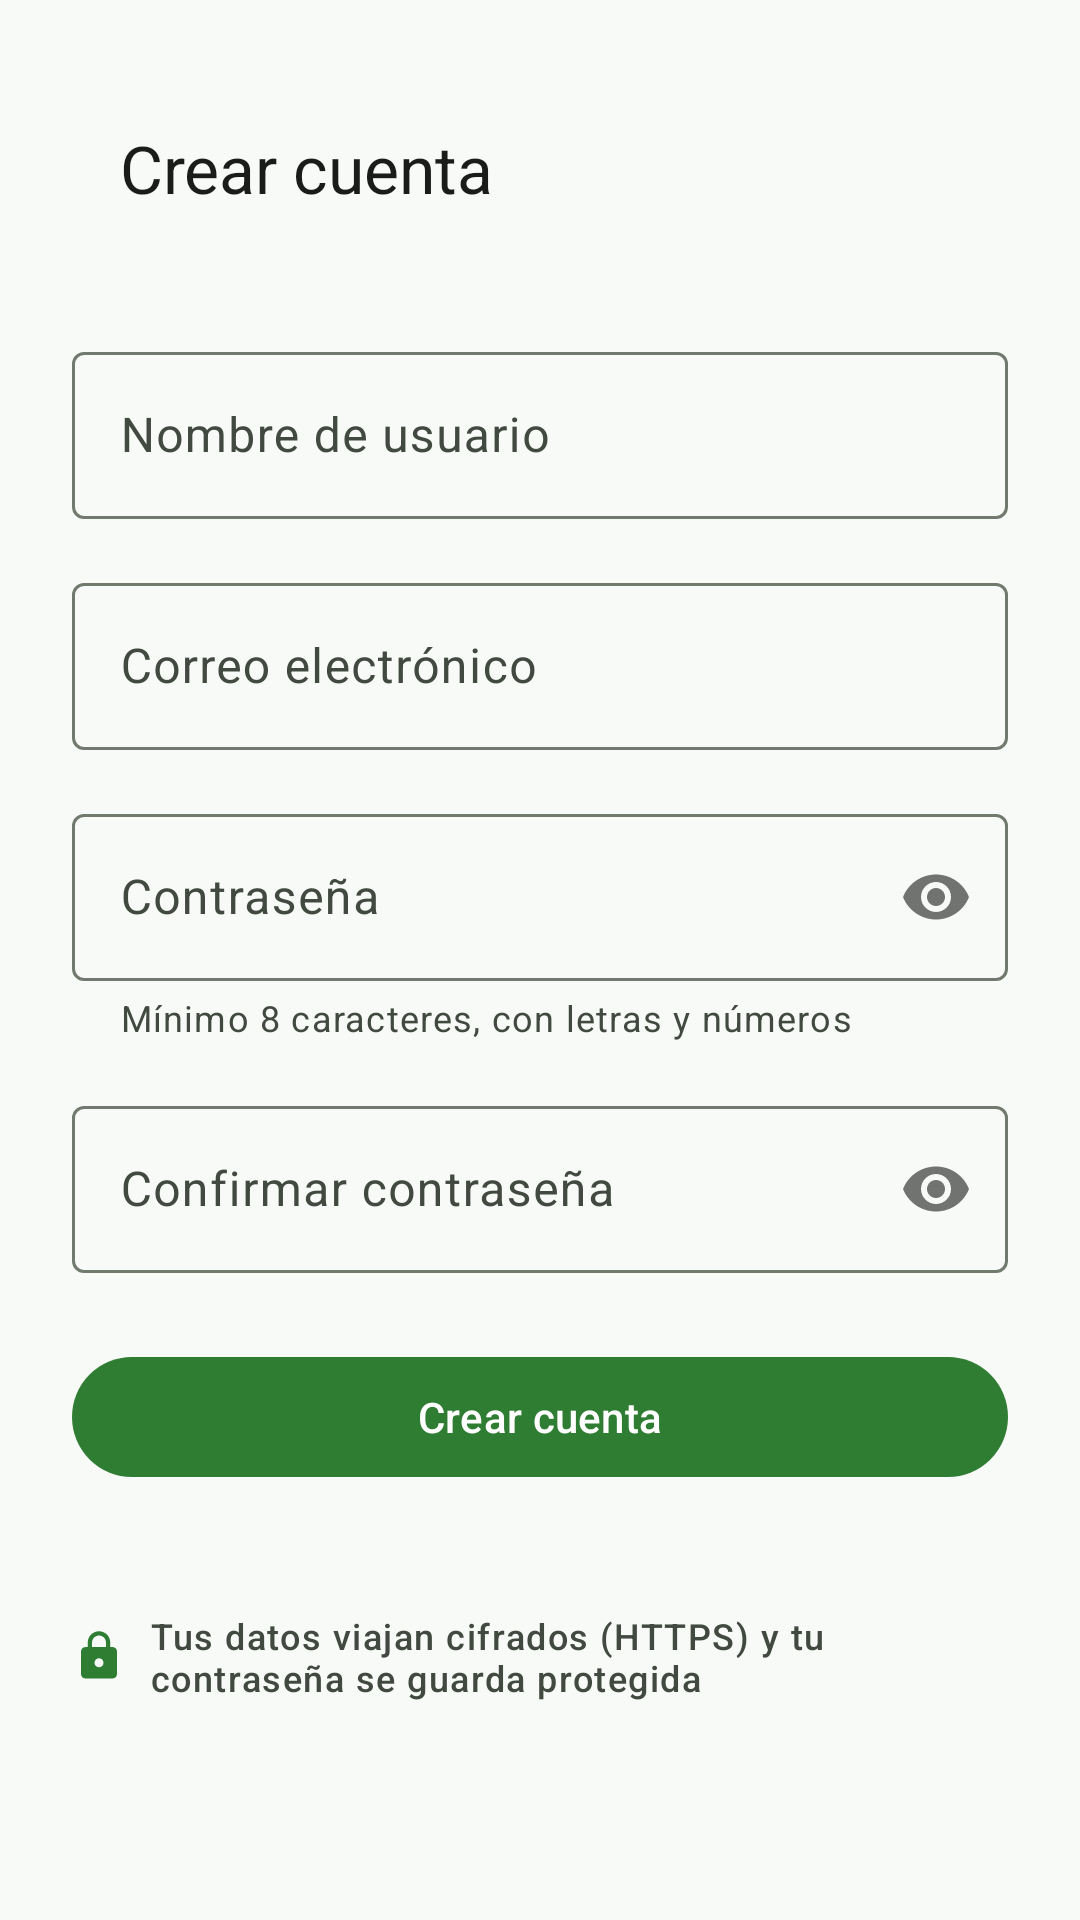

Icon bounding boxes for this 1080x1920 phone screenshot, format (x1, y1, x2, y2):
Conexión cifrada: (81, 1631, 117, 1679)
